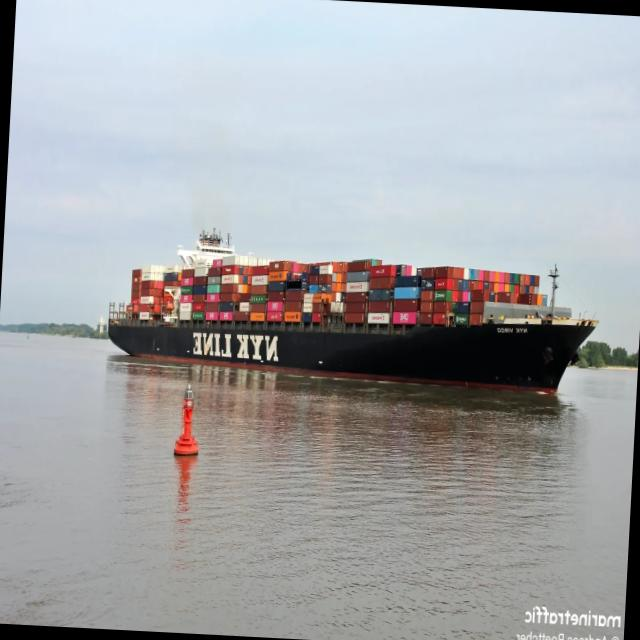Cargo: (109, 232, 598, 390)
